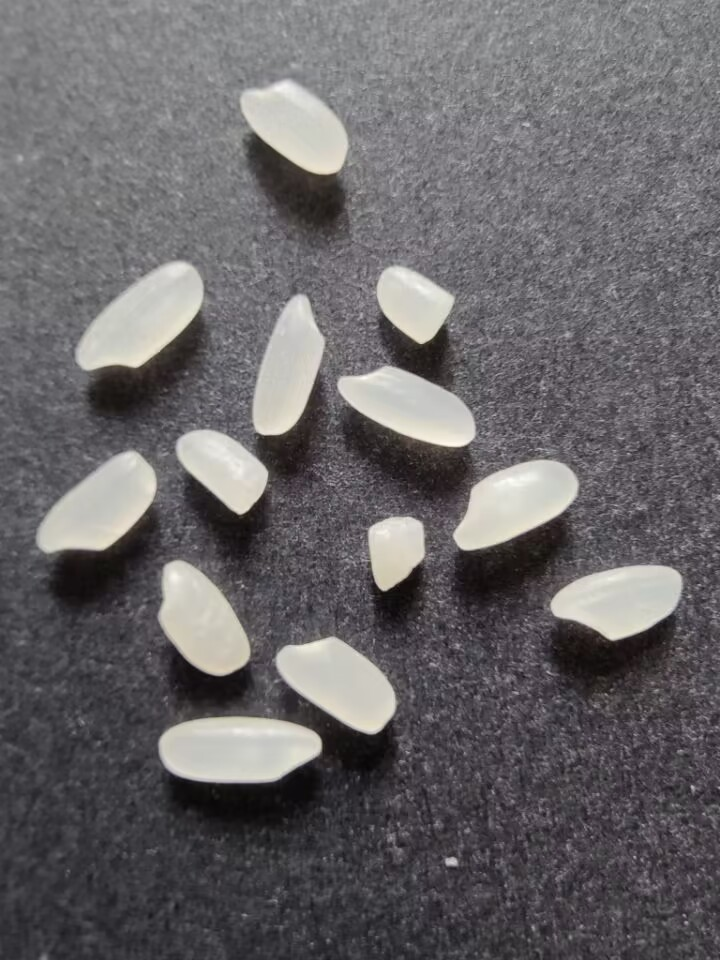broken: (172, 428, 273, 520), (375, 262, 460, 347), (364, 515, 431, 597)
rice: (70, 258, 209, 375), (31, 446, 161, 557), (272, 634, 400, 738), (331, 363, 481, 451), (451, 457, 582, 553), (156, 712, 325, 786), (153, 559, 252, 681), (247, 289, 327, 437), (546, 562, 686, 646), (234, 75, 348, 177)
